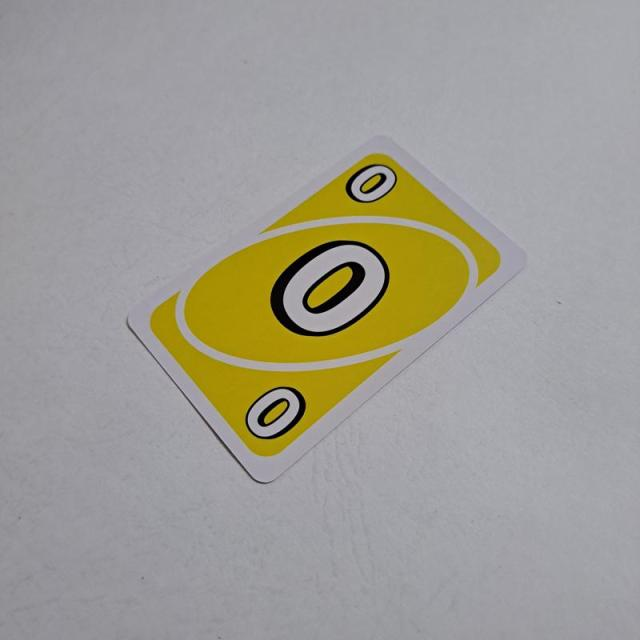Number_0: (341, 160, 402, 206)
Yellow_Card: (144, 147, 511, 459)
